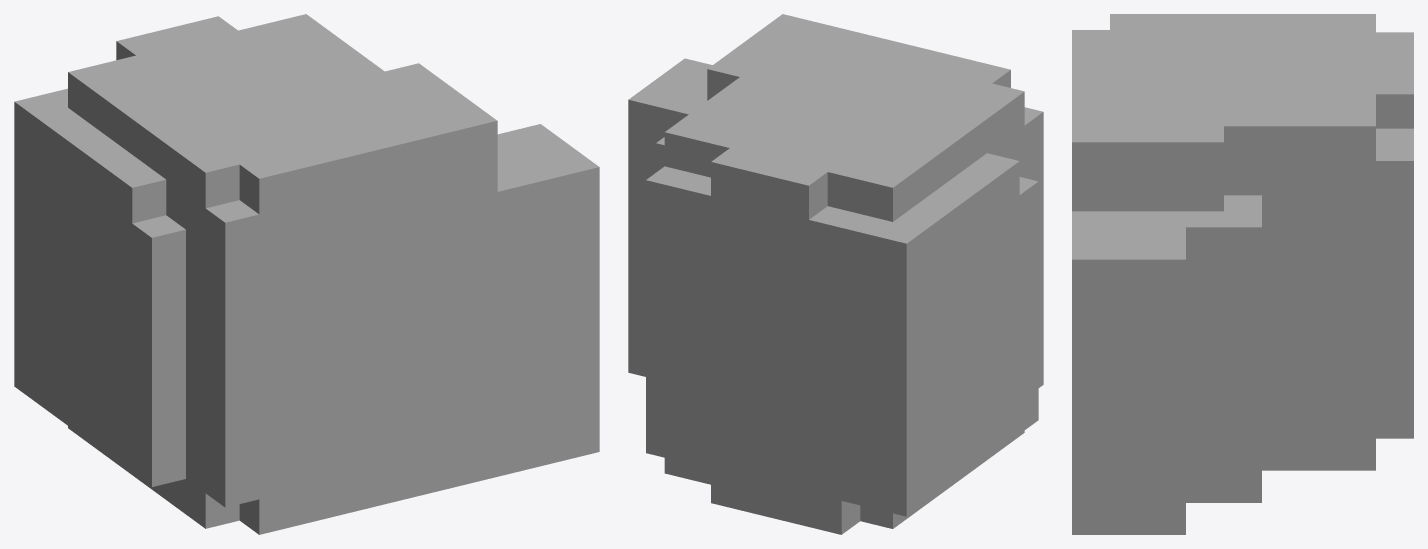
File: gorilla-8-R_Hand.obj
The picture shows the model from 3 angles, left to right: view 1: azimuth 30°, elevation 25°; view 2: azimuth 150°, elevation 25°; view 3: azimuth 270°, elevation 25°; orthographic projection. The views are drawn at different scales.
Visible parts, largest first — view 1: R_Hand; view 2: R_Hand; view 3: R_Hand.
Boxes of the visible parts, x1,y1,x2,y2 form: R_Hand: (14,14,599,534); R_Hand: (628,14,1043,534); R_Hand: (1072,14,1413,534).
Size of the model in its own units: 1.2 by 1 by 0.9.
Materials: 1 (1 with a texture image).
